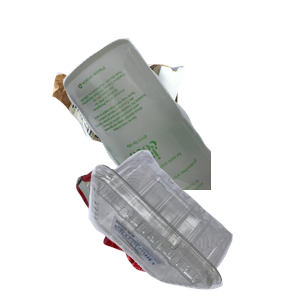cardboard: (50, 62, 228, 226)
glass: (60, 36, 300, 216)
plastic: (86, 147, 300, 300)
trash: (74, 167, 235, 300)
